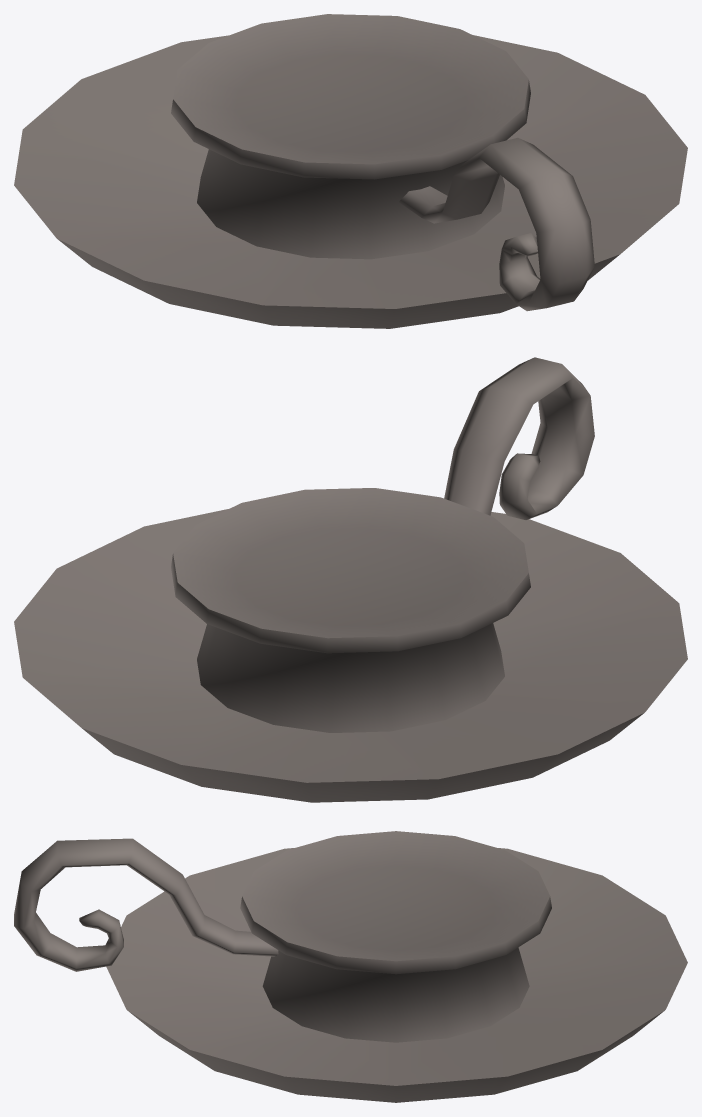
File: Candleholder.fbx
3 renders of one model, top to bottom at view 1: azimuth 30°, elevation 25°; view 2: azimuth 150°, elevation 25°; view 3: azimuth 270°, elevation 25°, orthographic. The views are drawn at different scales.
Parts seen in each view (by area): view 1: Candleholder; view 2: Candleholder; view 3: Candleholder.
Part boxes in pixels (bbox=[...]): Candleholder: bbox=[14, 14, 687, 328]; Candleholder: bbox=[14, 357, 687, 802]; Candleholder: bbox=[14, 831, 687, 1102].
Size of the model in its own units: 20.89 by 6.84 by 24.13.
